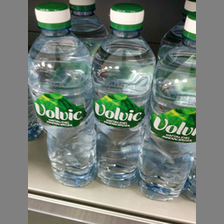water: (29, 2, 96, 187), (93, 3, 155, 186), (137, 13, 196, 201)
